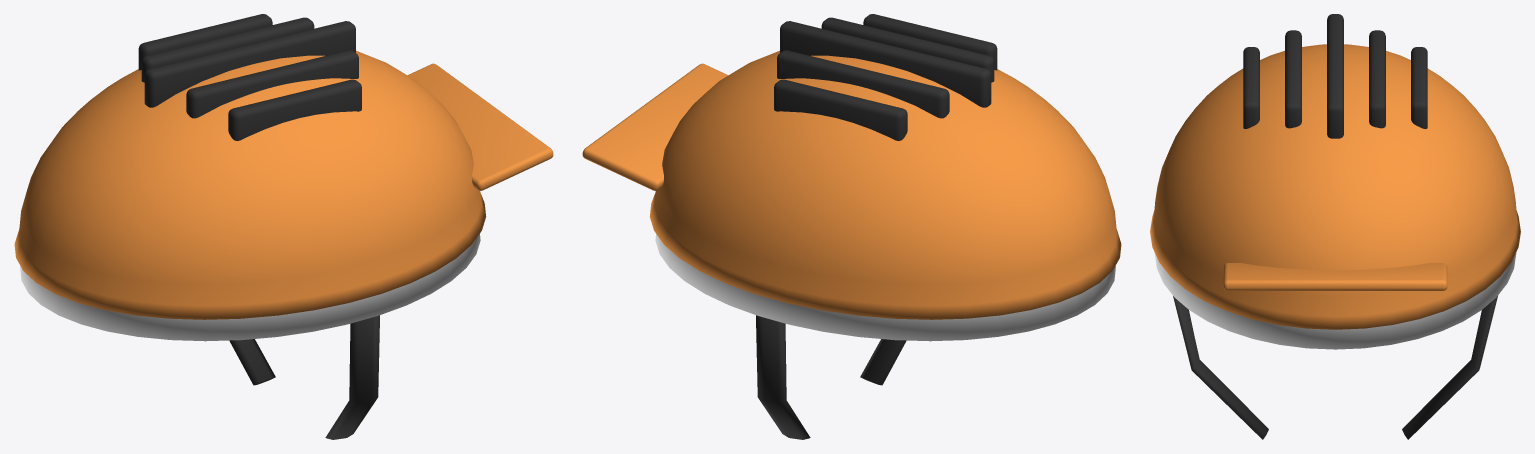
The model's file is SM_BikeHelmet.glb.
3 views of the same model, side by side, from view 1: azimuth 30°, elevation 25°; view 2: azimuth 150°, elevation 25°; view 3: azimuth 270°, elevation 25° (orthographic). The views are drawn at different scales.
Parts seen in each view (by area): view 1: SM_BikeHelmet; view 2: SM_BikeHelmet; view 3: SM_BikeHelmet.
Part boxes in pixels (bbox=[...]): SM_BikeHelmet: bbox=[14, 14, 553, 439]; SM_BikeHelmet: bbox=[582, 14, 1121, 439]; SM_BikeHelmet: bbox=[1150, 14, 1520, 439].
Bounding box in the file's own units: 0.3553 × 0.2785 × 0.2652.
